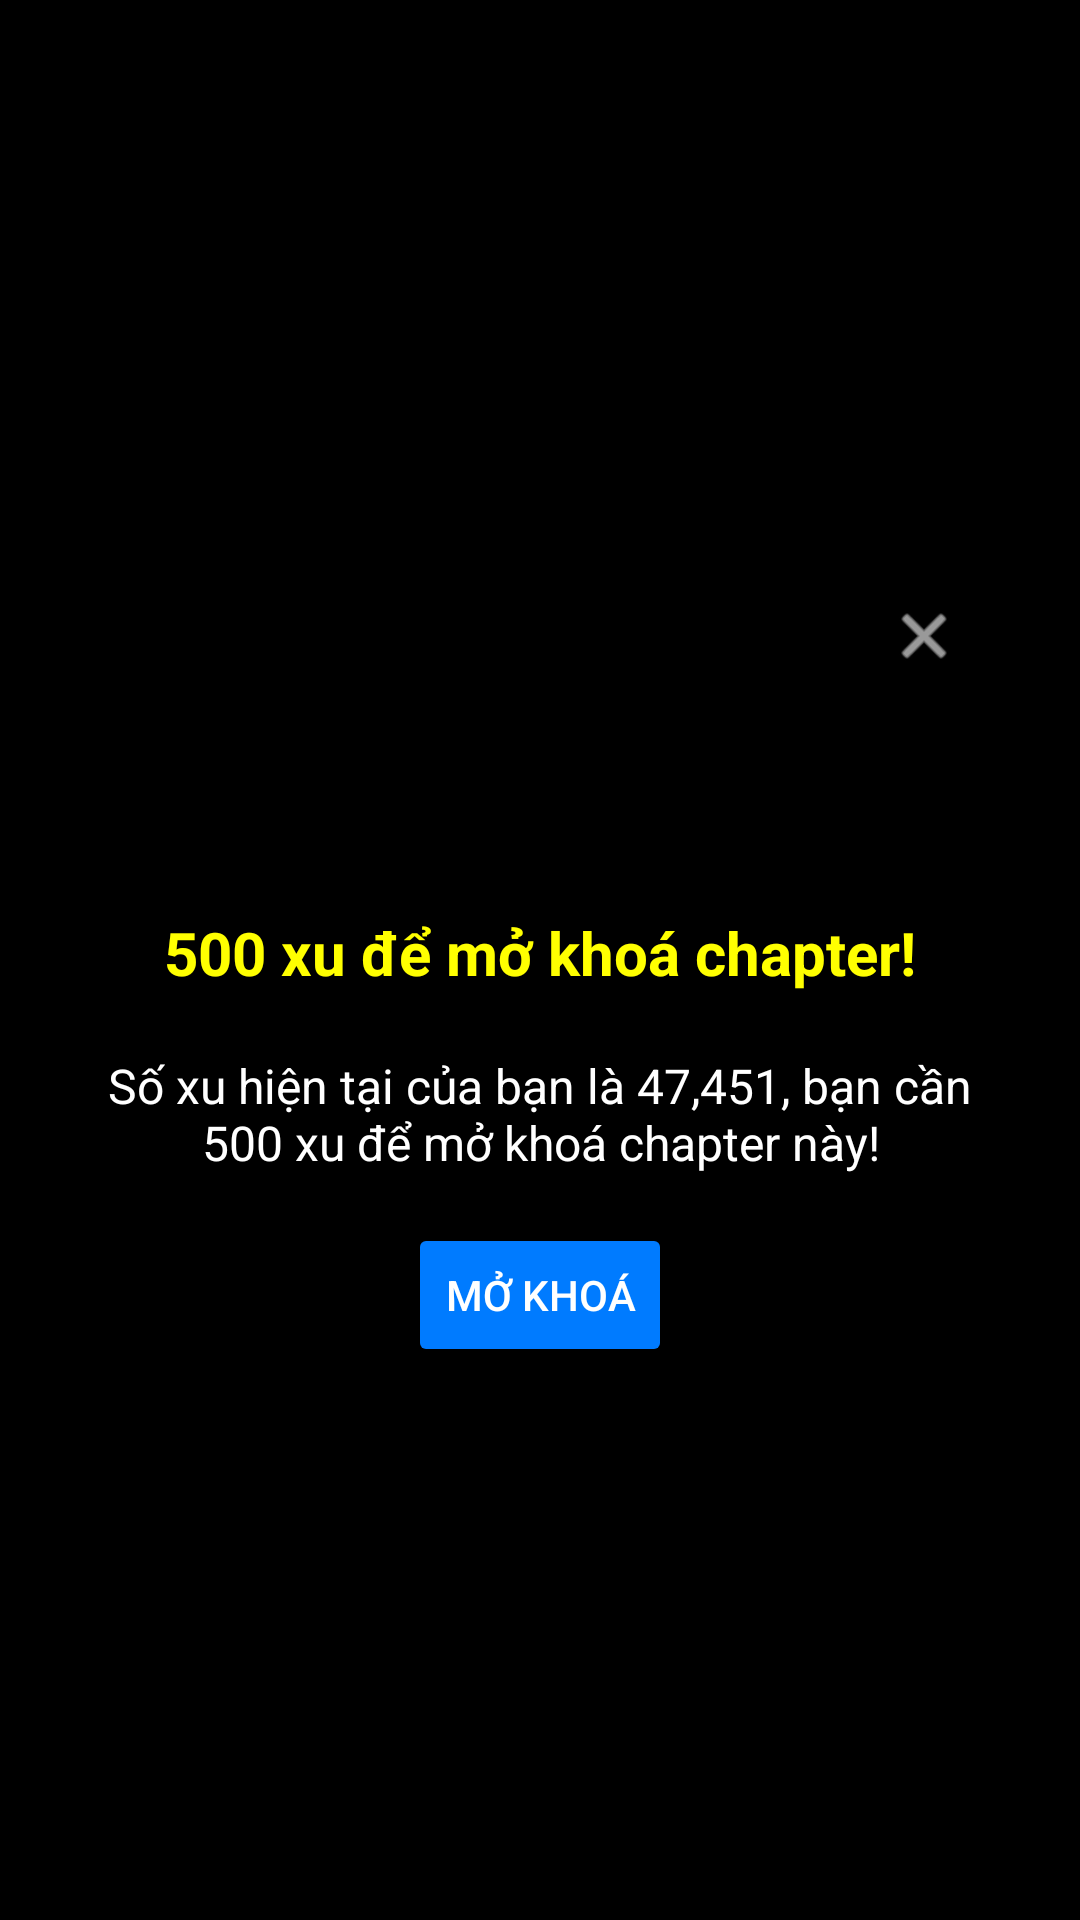

Named icons in this screenshot (1080px×1920px) and their centers, (x,y):
Đóng: (924,636)
